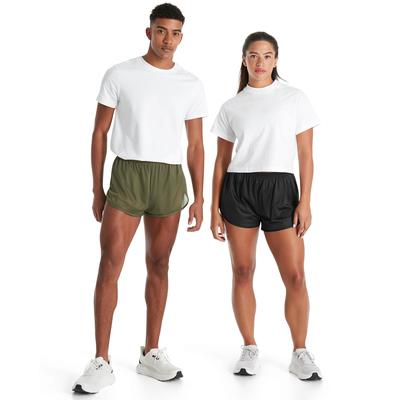Shorts: (217, 170, 303, 232), (105, 156, 189, 219)
short sleeve shirt: (95, 54, 207, 166), (210, 80, 319, 172)
